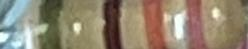Brown: (101, 0, 126, 49)
Orange: (143, 2, 170, 49)
Red: (183, 2, 209, 49)
Side-Gold: (36, 1, 67, 49)
